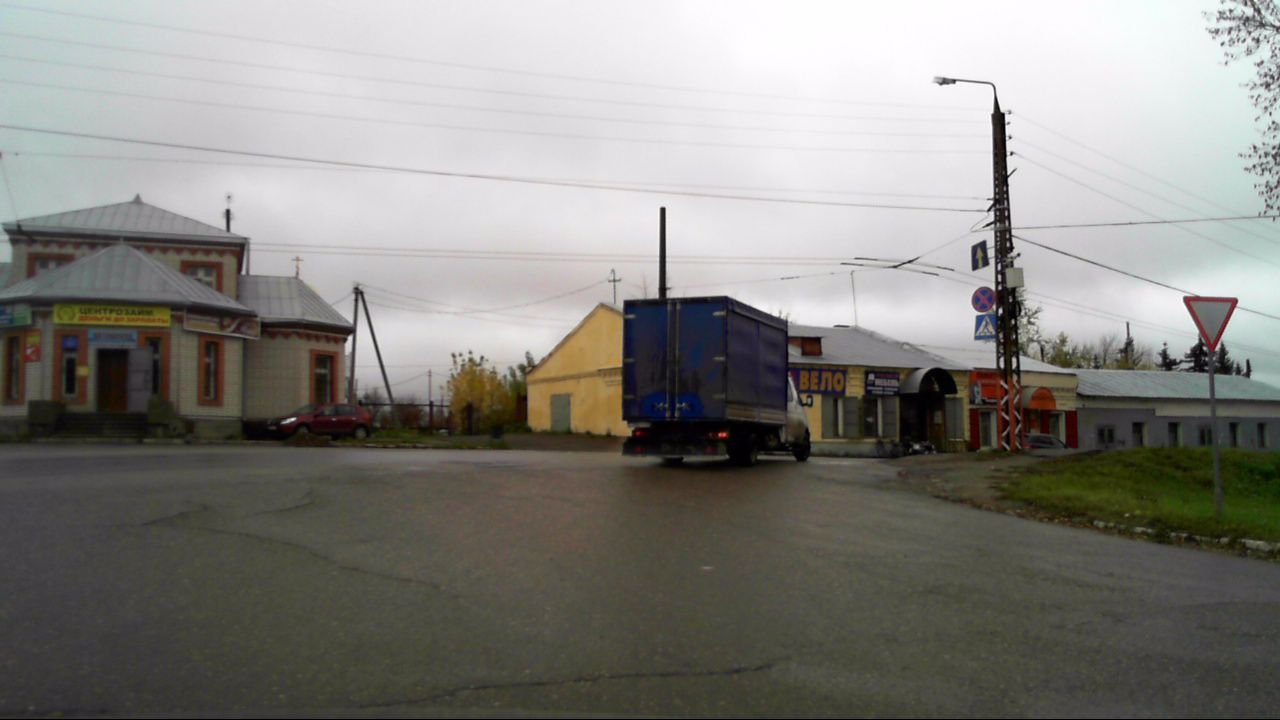No Parking: (971, 286, 995, 312)
